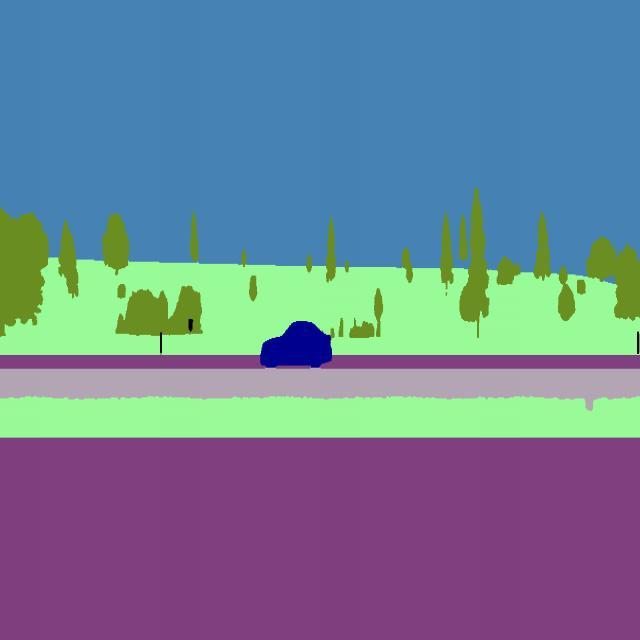safe: (260, 316, 335, 380)
